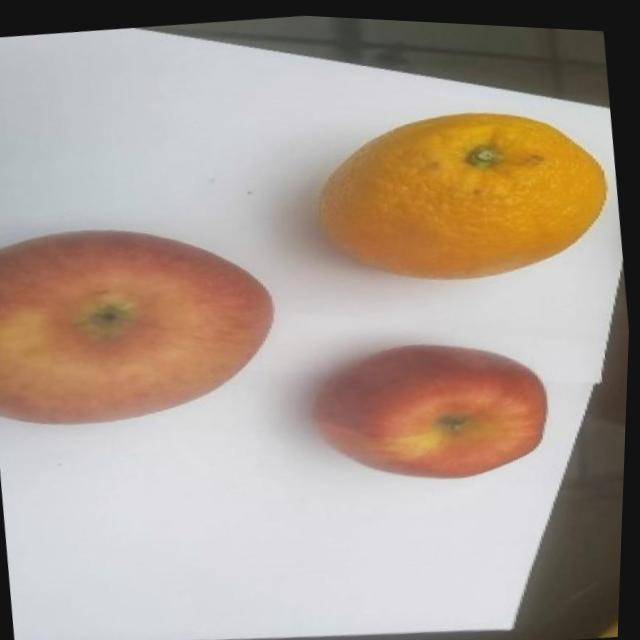Apple: (0, 202, 291, 443), (305, 320, 561, 496)
Orange: (307, 86, 620, 299)
